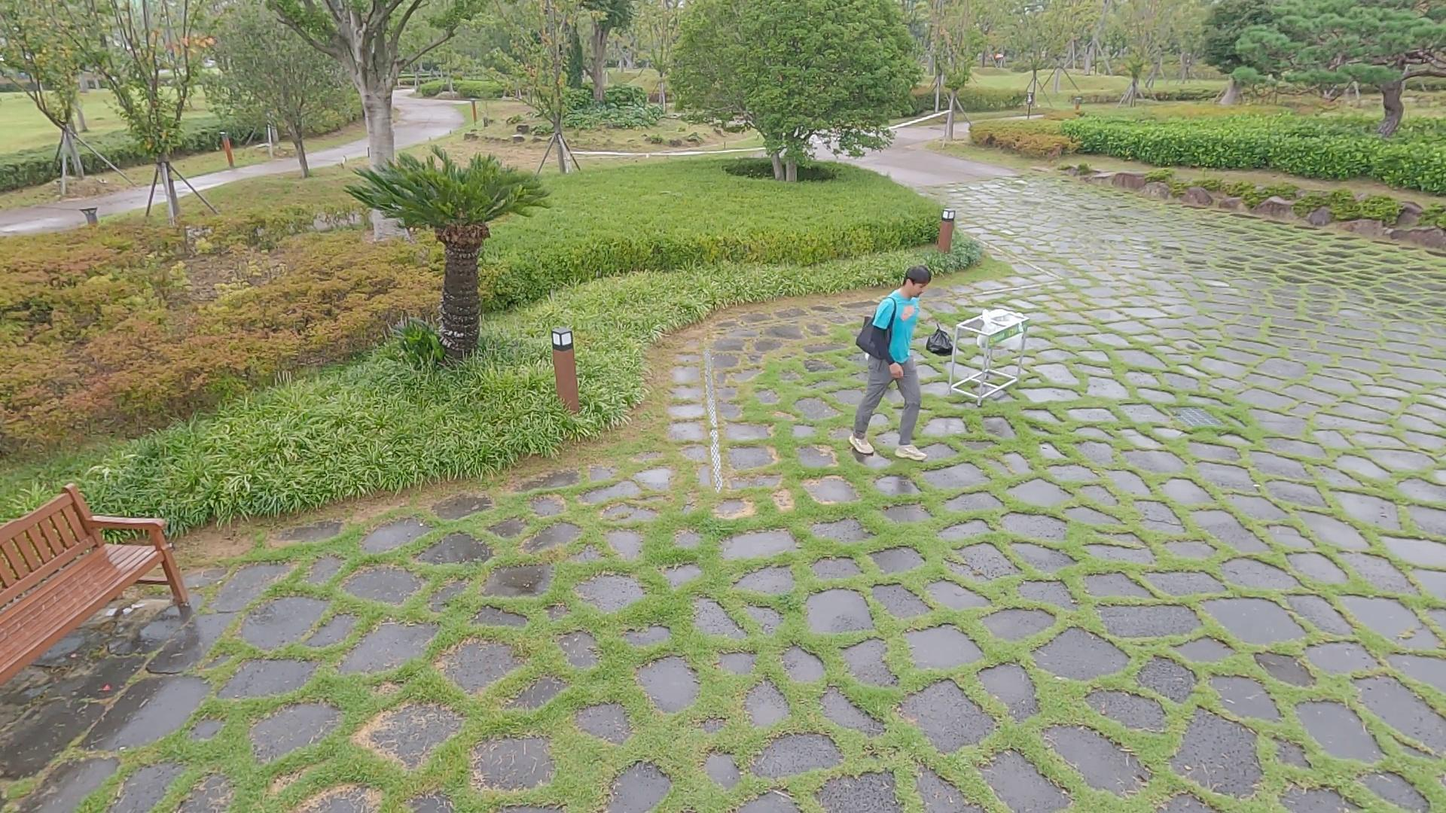person: (847, 262, 936, 469)
trash: (928, 323, 958, 357)
